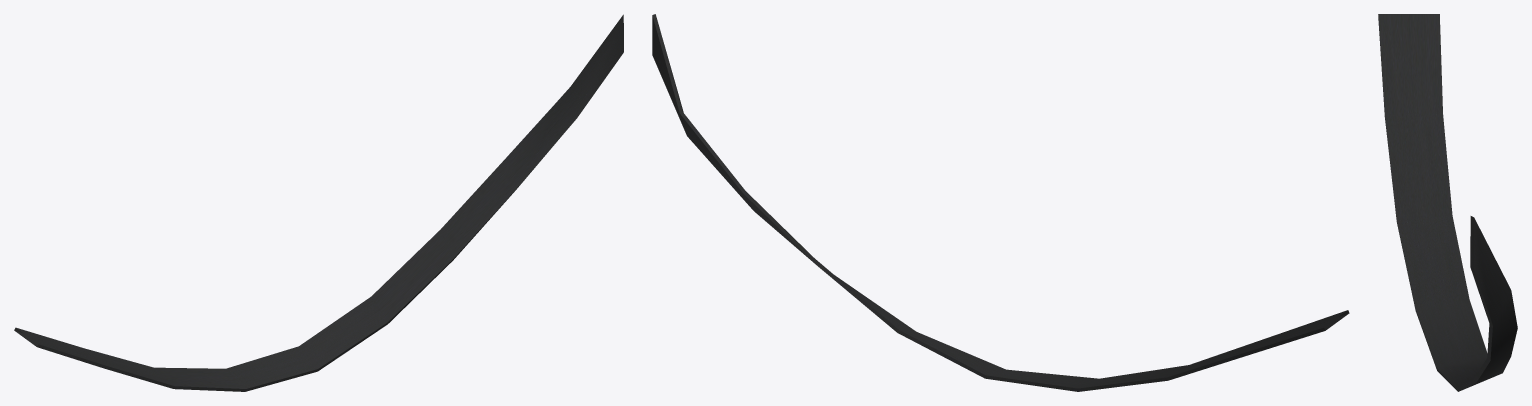
Rendered from Strap.dae.
3 renders of one model, left to right at view 1: azimuth 30°, elevation 25°; view 2: azimuth 150°, elevation 25°; view 3: azimuth 270°, elevation 25°, orthographic. The views are drawn at different scales.
Visible parts, largest first — view 1: Strap; view 2: Strap; view 3: Strap.
Boxes of the visible parts, box(x1,y1,x2,y2) form: Strap: box(14, 14, 623, 391); Strap: box(652, 14, 1349, 391); Strap: box(1378, 14, 1517, 391).
Size of the model in its own units: 0.5262 by 0.0756 by 0.2182.
1 material, 1 textured.
